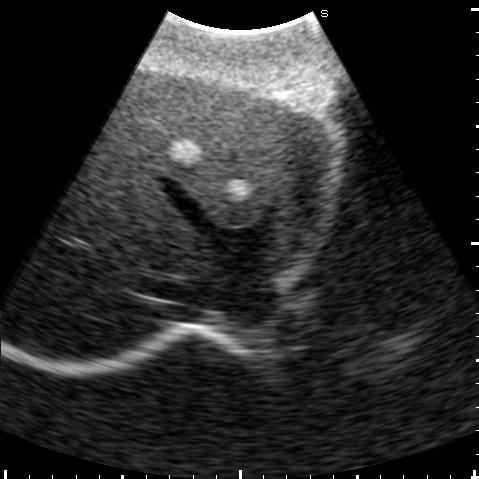S2: (267, 127, 325, 256)
S4: (109, 74, 297, 225)
S7: (20, 238, 164, 360)
S8: (63, 151, 211, 279)
Tumor: (167, 138, 202, 166), (225, 179, 248, 201)
